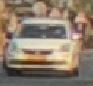Car: (5, 16, 82, 78)
